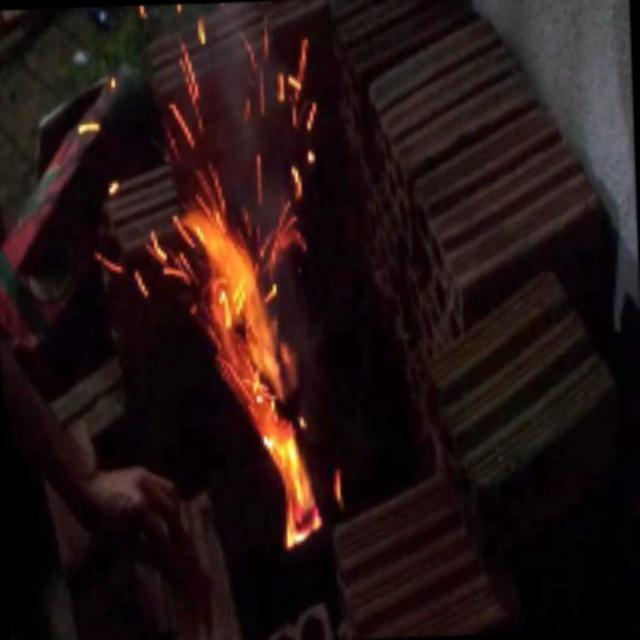fire: (162, 163, 356, 559)
